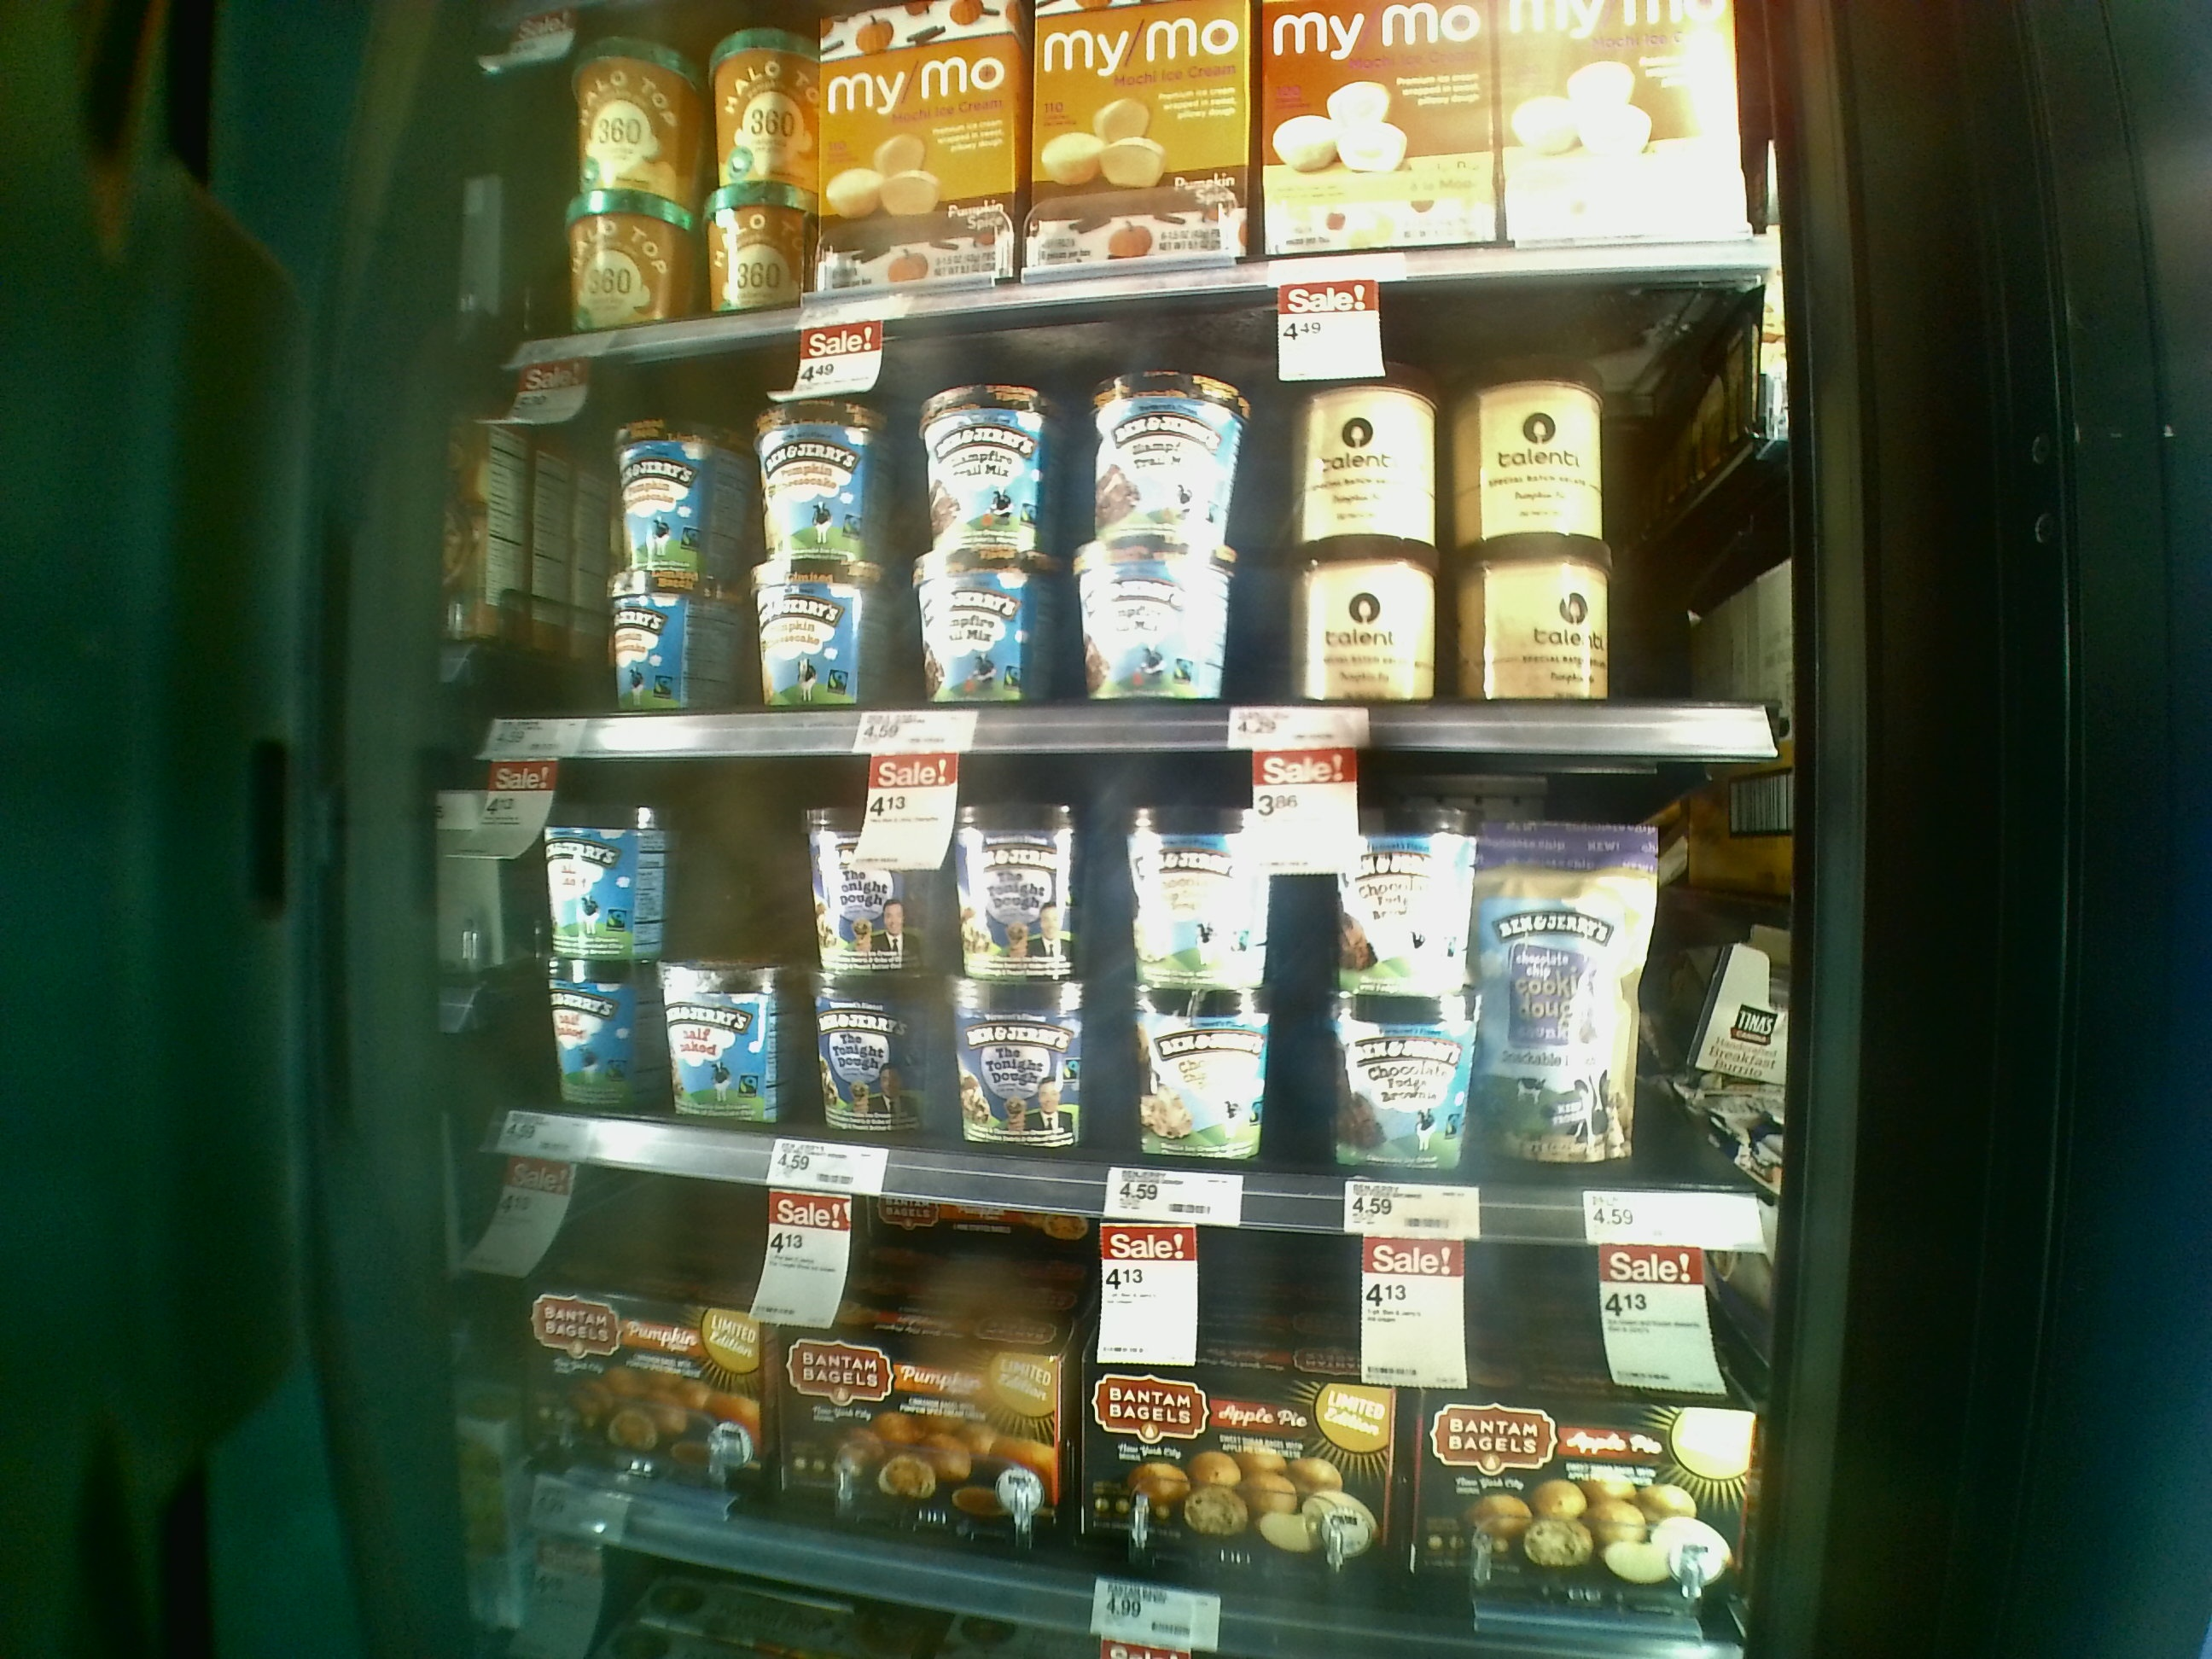shelf: (456, 735, 1801, 1262), (474, 342, 1801, 749)
